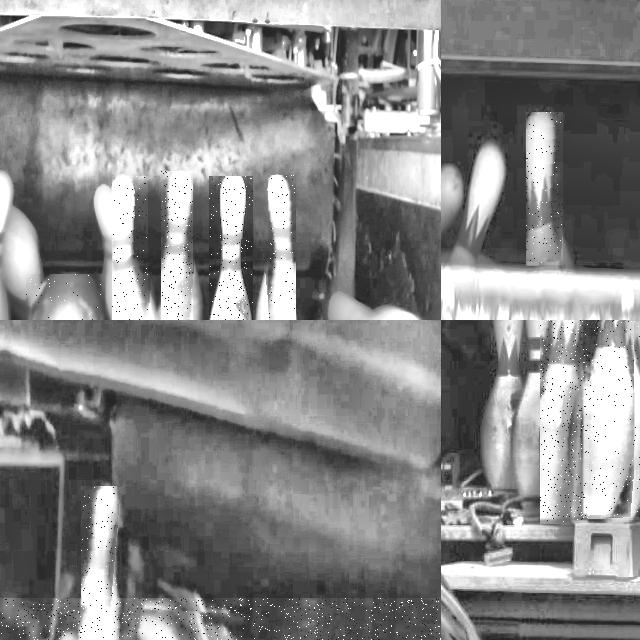bowling-ball: (30, 274, 104, 320)
bowling-pins: (587, 320, 640, 520), (541, 320, 586, 522), (512, 320, 556, 498), (481, 320, 522, 490), (450, 141, 505, 264), (211, 177, 252, 320), (526, 113, 563, 263), (81, 487, 117, 640), (112, 176, 148, 320), (162, 171, 193, 320), (268, 175, 295, 320)
